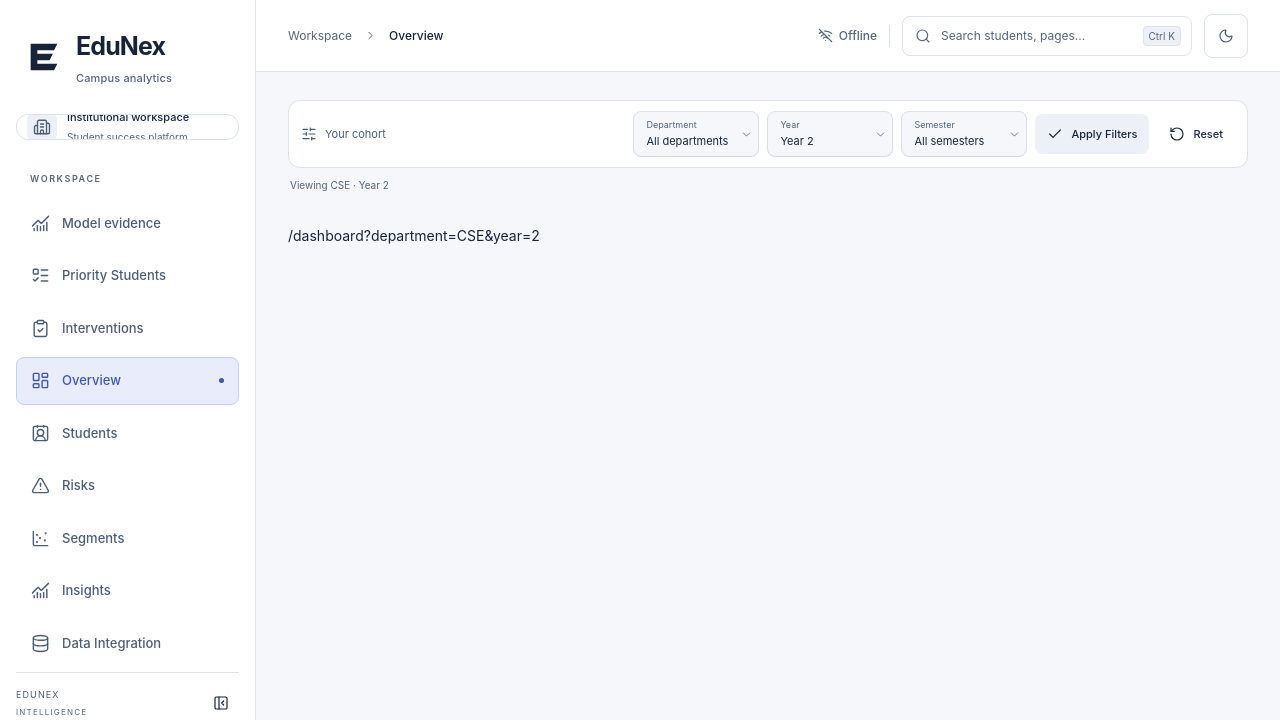
Test case: workspace navigation › opens the command palette by keyboard and preserves cohort filters on navigation
The width and height of the screenshot is (1280, 720).
Type keys "{Control>}k{/Control}"
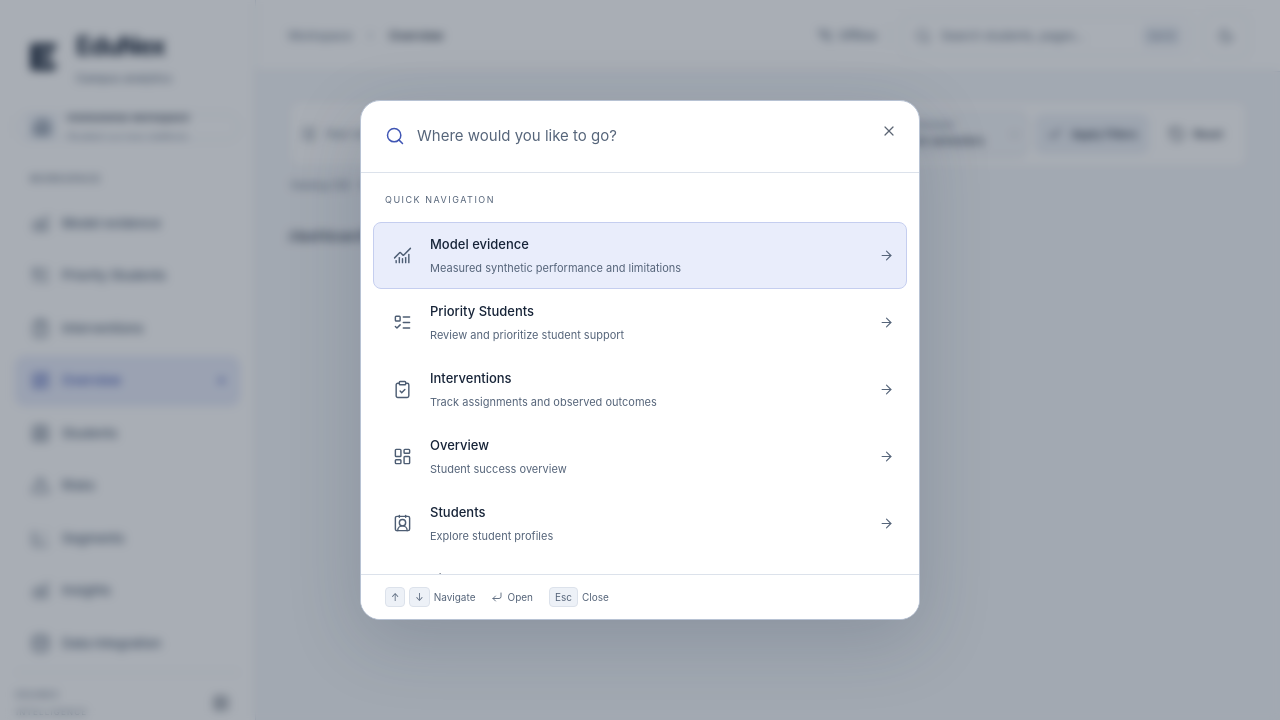
Expected: the dialog is shown, [360,100,920,620]
Type "insights" into the dropdown at [644, 136], box [417,125,871,148]
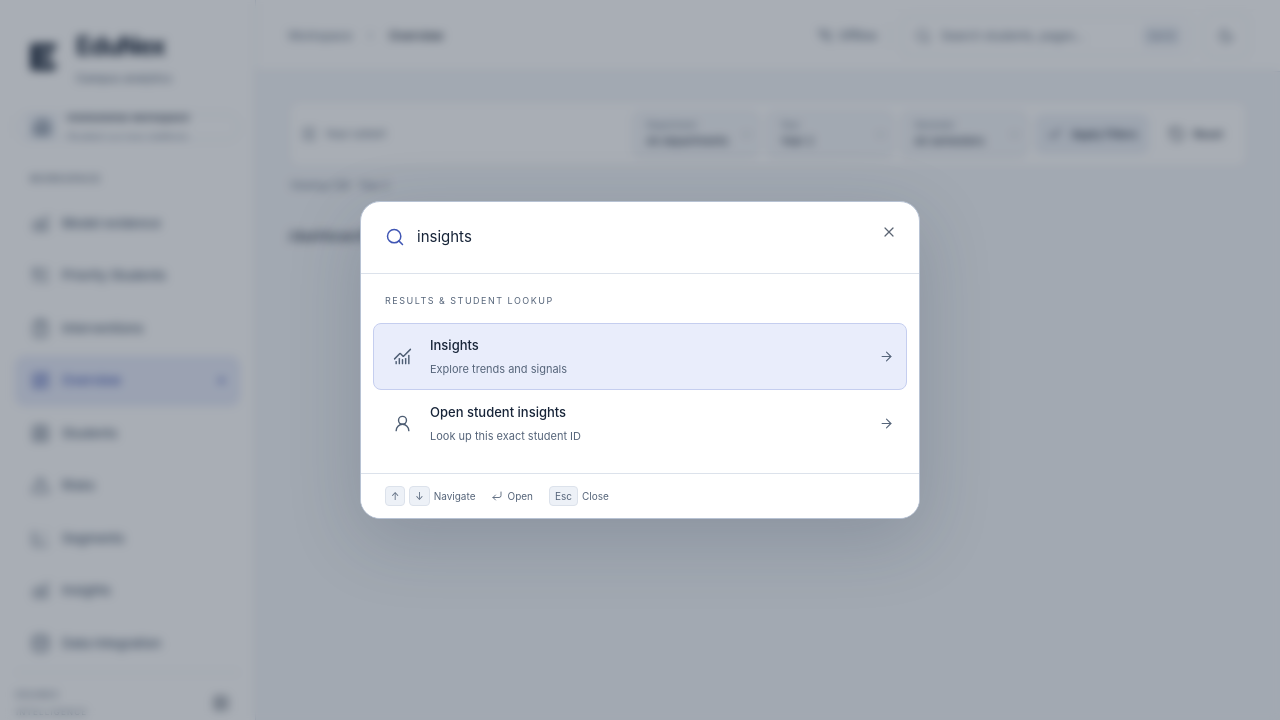
Press Enter
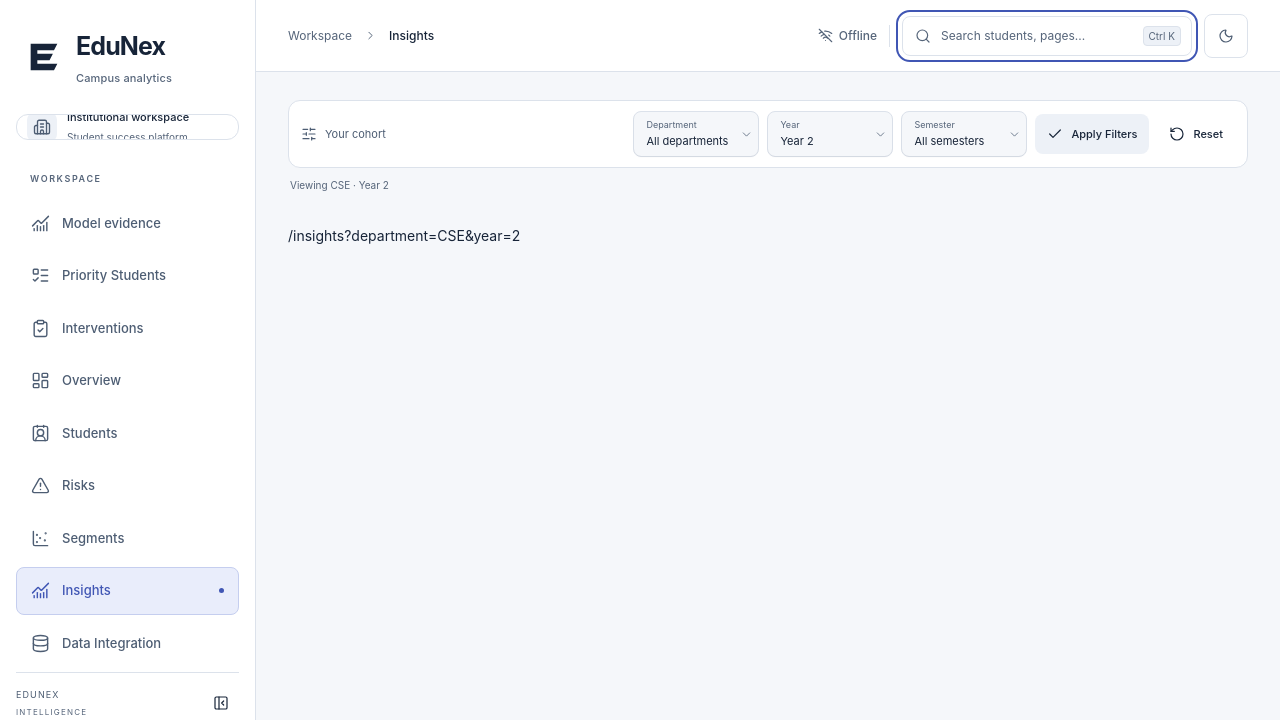
Expected: the text named "Current URL" reads "/insights?department=CSE&year=2", [288,227,520,244]
Expected: the dialog is gone
